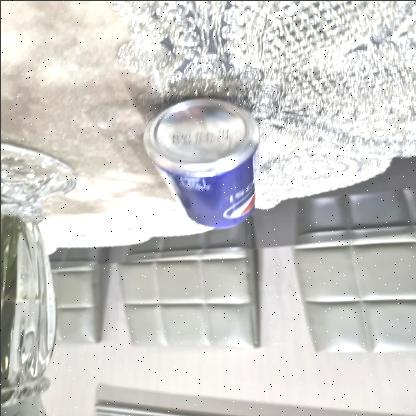Can: (134, 90, 263, 230)
